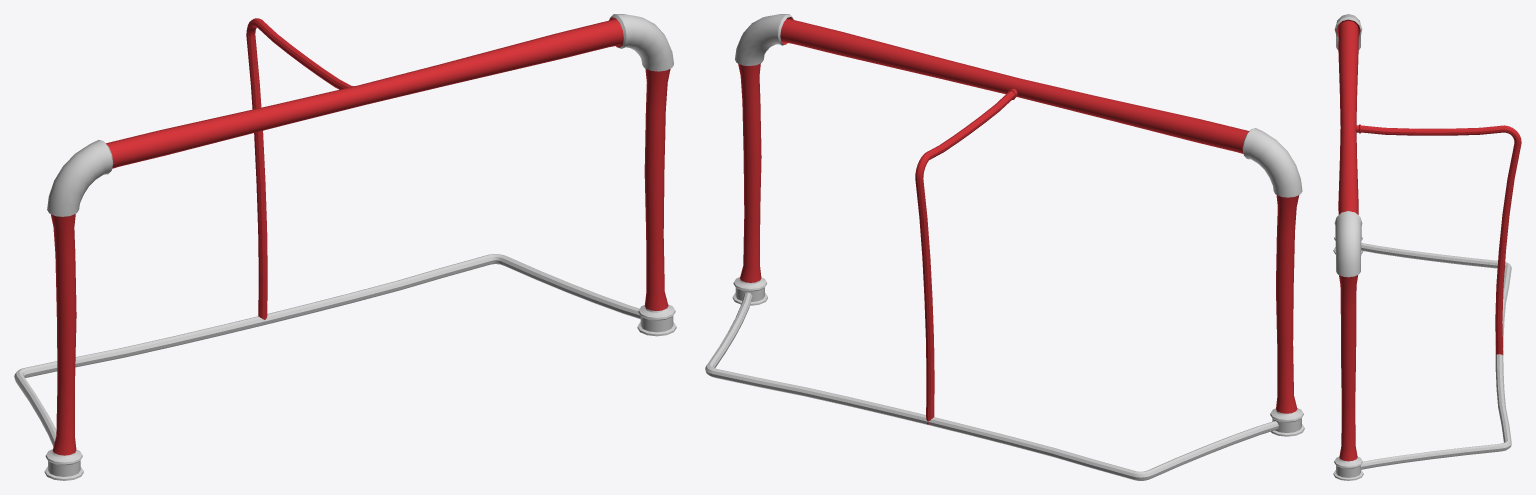
The model's file is HockeyGoal.fbx.
3 views of the same model, side by side, from view 1: azimuth 30°, elevation 25°; view 2: azimuth 150°, elevation 25°; view 3: azimuth 270°, elevation 25° (orthographic). The views are drawn at different scales.
Visible parts, largest first — view 1: Cube; view 2: Cube; view 3: Cube.
Part boxes in pixels (x1=…): Cube: x1=14, y1=14, x2=676, y2=480; Cube: x1=705, y1=14, x2=1304, y2=480; Cube: x1=1333, y1=14, x2=1521, y2=480.
Size of the model in its own units: 745 by 366 by 251.
